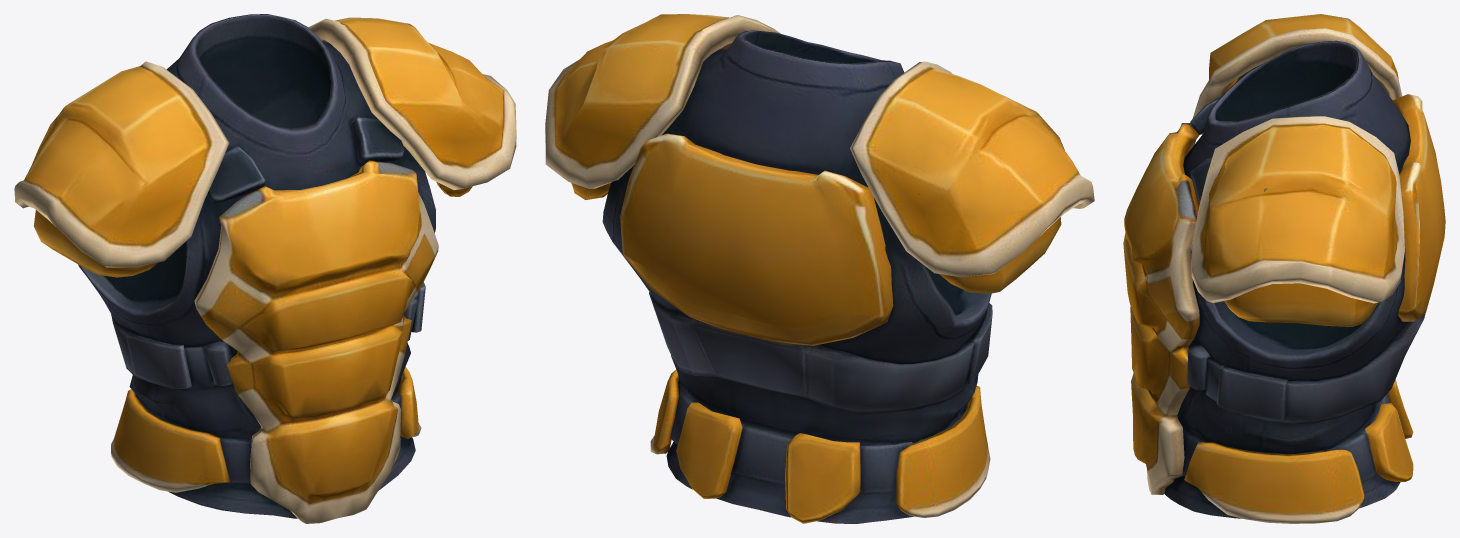
File: armored-body.glb
The picture shows the model from 3 angles, left to right: view 1: azimuth 30°, elevation 25°; view 2: azimuth 150°, elevation 25°; view 3: azimuth 270°, elevation 25°; orthographic projection. The views are drawn at different scales.
Visible parts, largest first — view 1: armored-body; view 2: armored-body; view 3: armored-body.
Part boxes in pixels (x1,y1,x2,y2): armored-body: (14,14,516,523); armored-body: (545,14,1094,523); armored-body: (1123,14,1445,523).
Bounding box in the file's own units: 0.74 × 0.6594 × 0.4525.
1 material, 1 textured.
